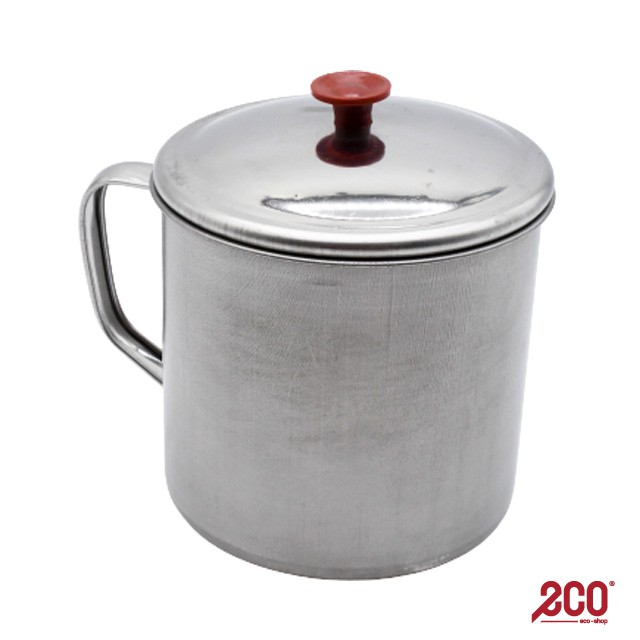metal: (73, 66, 561, 589)
